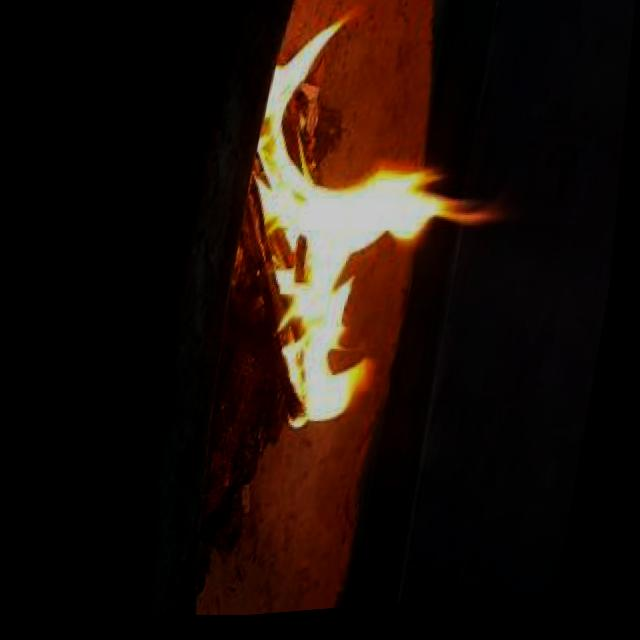helmet: (209, 0, 561, 463)
